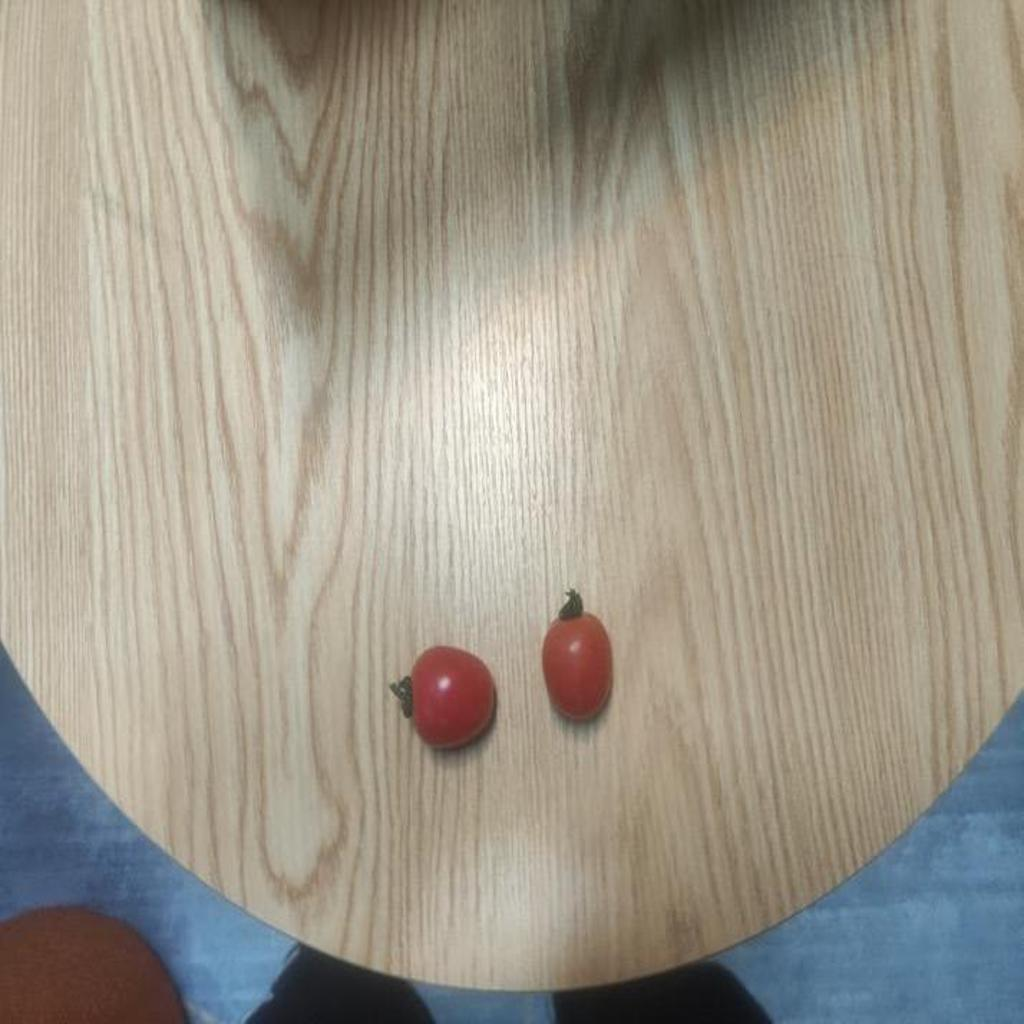tomato: (531, 606, 620, 723), (394, 649, 498, 748)
